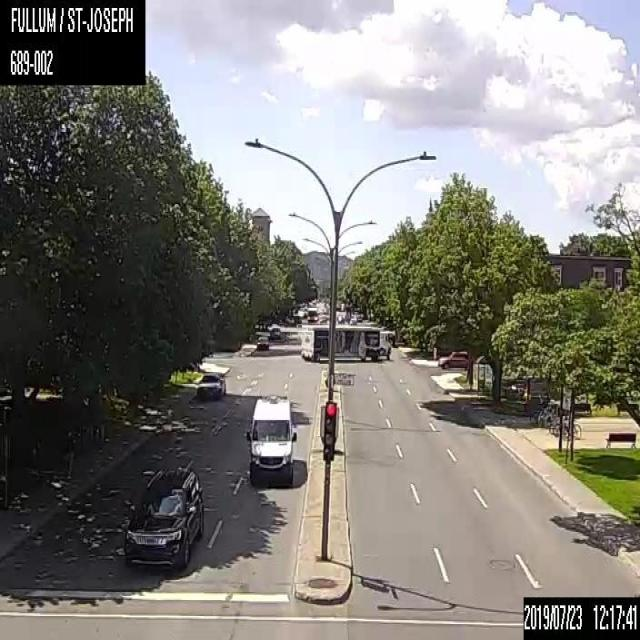vehicle: (122, 466, 204, 570), (246, 392, 296, 485), (300, 322, 392, 362), (194, 371, 227, 400), (436, 348, 468, 371), (256, 334, 268, 350), (306, 307, 318, 321)
